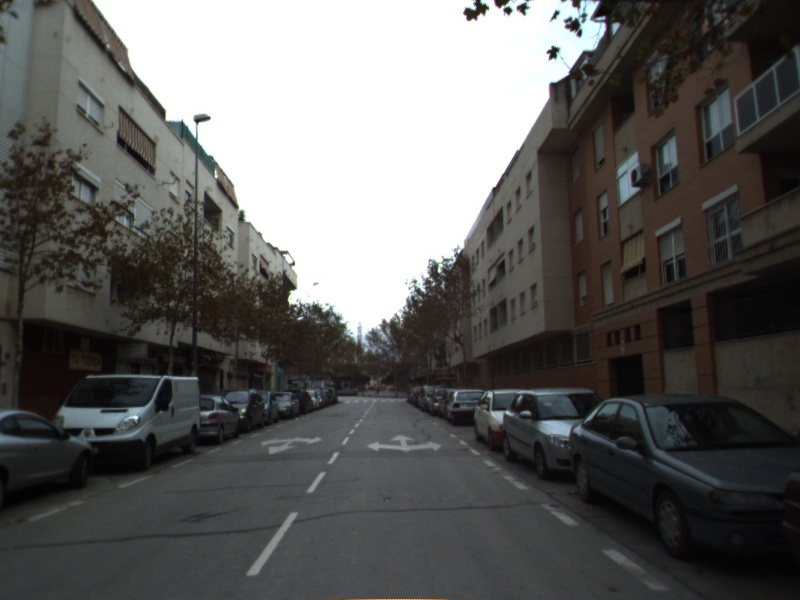STRAIGHT_LEFT_RIGHT: (365, 431, 444, 454)
